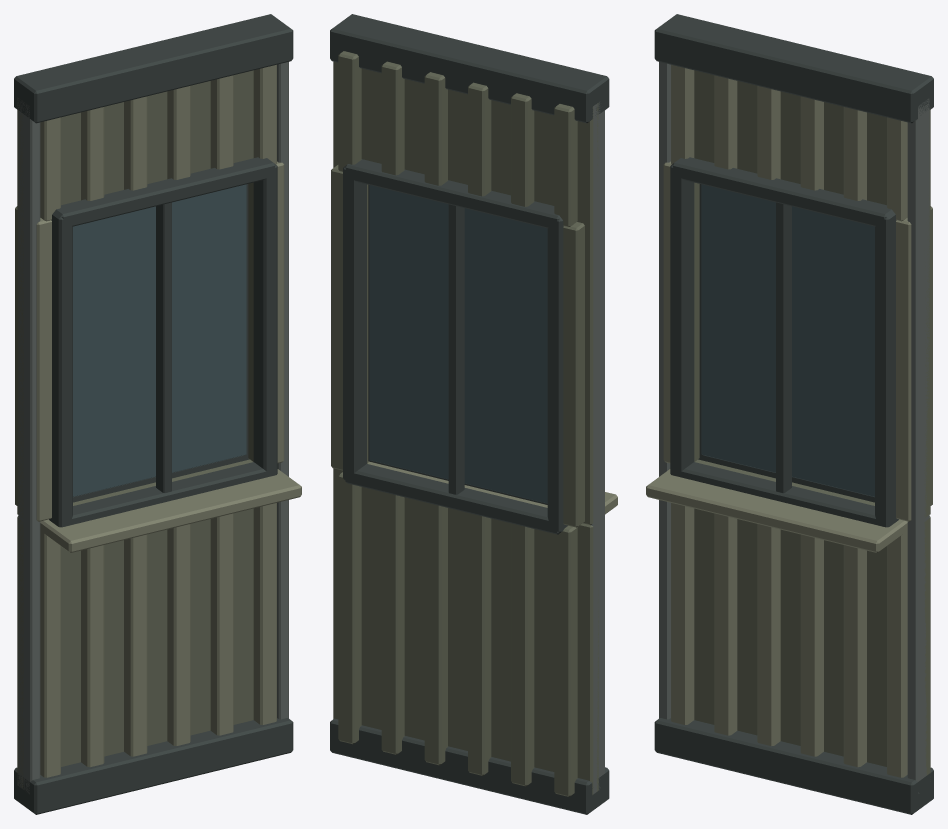
File: WallWindow01.fbx
3 renders of one model, left to right at view 1: azimuth 30°, elevation 25°; view 2: azimuth 150°, elevation 25°; view 3: azimuth 330°, elevation 25°, orthographic.
Visible parts, largest first — view 1: Window_DarkPane, Wall_Sheet.001, Panel_Rail.003, Panel_Stile.002, Panel_Rail.002, Wall_Sheet.002, Window_Frame.001, Window_Sill, Window_Frame, Panel_Stile.003, Corrugation.008, Corrugation.007 (+20 smaller); view 2: Window_DarkPane, Wall_Sheet.001, Panel_Rail.003, Wall_Sheet.002, Panel_Stile.002, Panel_Rail.002, Outer_WindowFrame.001, Outer_Corrugation.018, Outer_Corrugation.006, Outer_Corrugation.011, Outer_Corrugation.009, Outer_Corrugation.010 (+17 smaller); view 3: Window_DarkPane, Wall_Sheet.001, Panel_Rail.003, Panel_Stile.003, Panel_Rail.002, Wall_Sheet.002, Window_Frame, Window_Sill, Window_Frame.001, Panel_Stile.002, Corrugation.009, Corrugation.010 (+20 smaller).
Part boxes in pixels (left/top/right/bottom): Window_DarkPane: left=73, top=184, right=246, bottom=496; Wall_Sheet.001: left=17, top=459, right=253, bottom=789; Panel_Rail.003: left=14, top=14, right=293, bottom=123; Panel_Stile.002: left=18, top=101, right=40, bottom=794; Panel_Rail.002: left=14, top=718, right=293, bottom=814; Wall_Sheet.002: left=17, top=70, right=253, bottom=219; Window_Frame.001: left=253, top=165, right=277, bottom=476; Window_Sill: left=40, top=469, right=301, bottom=552; Window_Frame: left=49, top=212, right=72, bottom=527; Panel_Stile.003: left=277, top=62, right=288, bottom=719; Corrugation.008: left=124, top=534, right=147, bottom=756; Corrugation.007: left=81, top=545, right=104, bottom=767; Window_DarkPane: left=369, top=185, right=547, bottom=503; Wall_Sheet.001: left=333, top=468, right=598, bottom=794; Panel_Rail.003: left=330, top=14, right=609, bottom=123; Wall_Sheet.002: left=333, top=61, right=598, bottom=225; Panel_Stile.002: left=591, top=102, right=604, bottom=794; Panel_Rail.002: left=330, top=718, right=609, bottom=814; Outer_WindowFrame.001: left=343, top=166, right=366, bottom=481; Outer_Corrugation.018: left=563, top=222, right=584, bottom=527; Outer_Corrugation.006: left=554, top=525, right=577, bottom=796; Outer_Corrugation.011: left=338, top=472, right=361, bottom=744; Outer_Corrugation.009: left=424, top=502, right=447, bottom=765; Outer_Corrugation.010: left=381, top=492, right=404, bottom=754; Window_DarkPane: left=701, top=184, right=874, bottom=496; Wall_Sheet.001: left=694, top=459, right=930, bottom=775; Panel_Rail.003: left=654, top=14, right=933, bottom=123; Panel_Stile.003: left=907, top=98, right=929, bottom=793; Panel_Rail.002: left=654, top=718, right=933, bottom=814; Wall_Sheet.002: left=694, top=70, right=930, bottom=216; Window_Frame: left=670, top=165, right=694, bottom=477; Window_Sill: left=646, top=469, right=907, bottom=552; Window_Frame.001: left=875, top=212, right=898, bottom=527; Panel_Stile.002: left=659, top=62, right=670, bottom=719; Corrugation.009: left=800, top=534, right=823, bottom=756; Corrugation.010: left=843, top=545, right=866, bottom=767.
Size of the model in its own units: 100 by 267 by 34.2.
